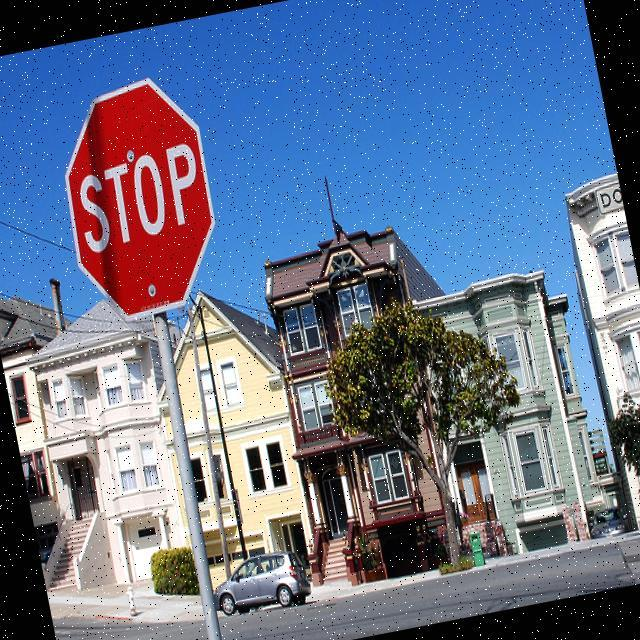fire_hydrant: (124, 584, 138, 616)
